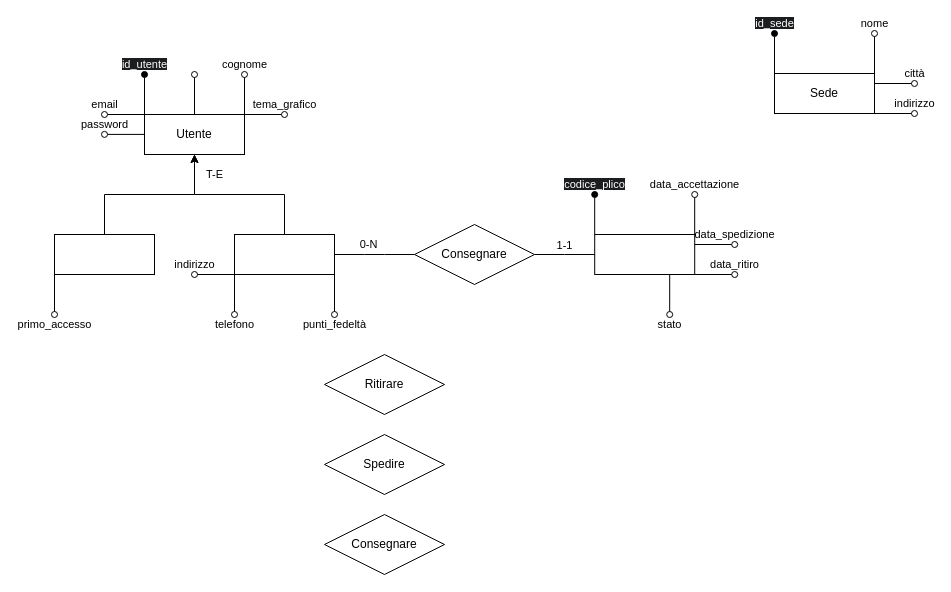
This 951x592 diagram has some shape labels left out. The box of each missing label's shape, as (x1, y1, x2, y2) in pixels:
Cliente: (234, 234, 334, 274)
Personale: (54, 234, 154, 274)
Plico: (594, 234, 695, 274)
